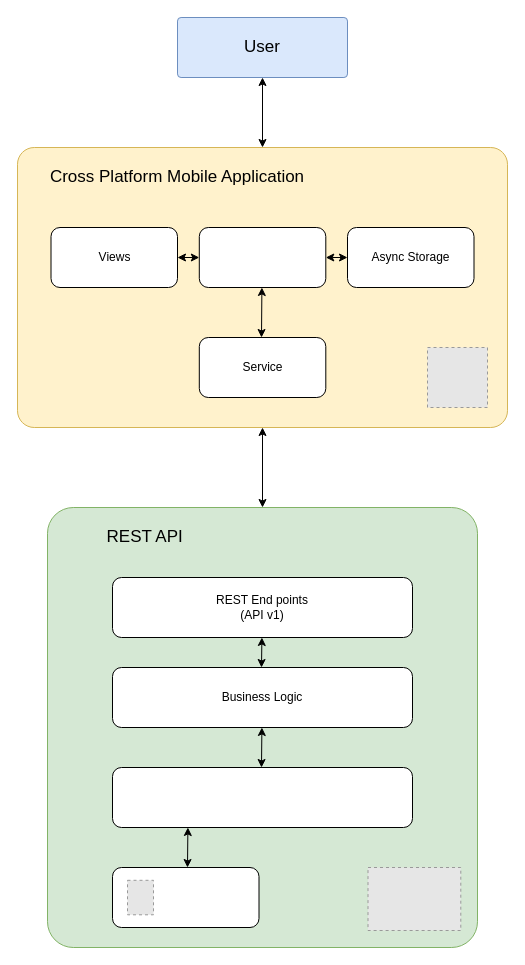
This 525x965 diagram has some shape labels left out. Grey dashed boxes stand in for pictures. The box of each missing label's shape, as (x1, y1, x2, y2) in pixels:
Controller: (198, 226, 326, 288)
Data Access Layer: (112, 766, 412, 828)
mysql Database: (112, 866, 259, 928)
